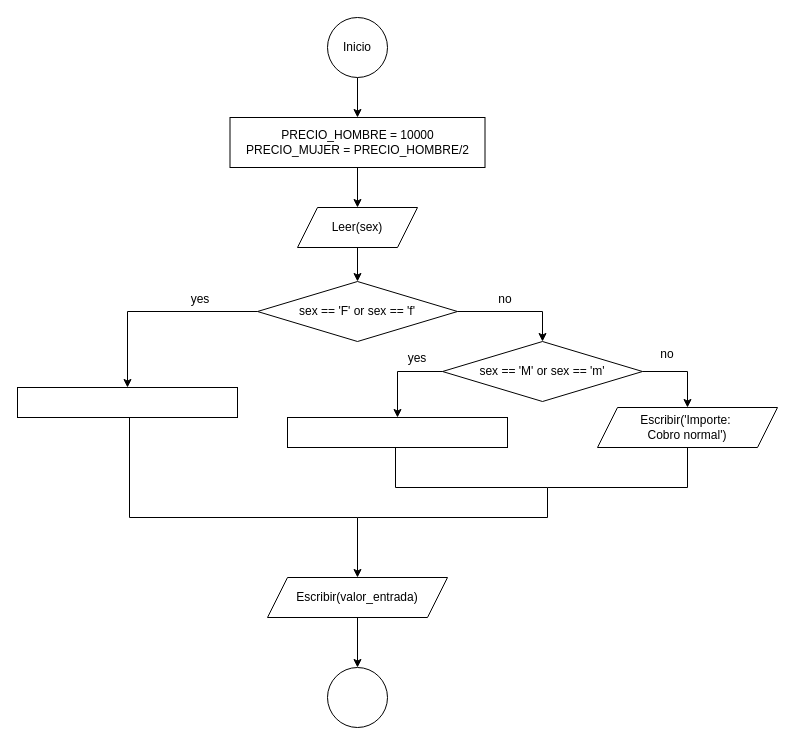
Image size: 795x745. Some labels were removed from this diagram. The shapes that lost their labels are listed below. From the top down, each one's centre as x and y in pixels, then its label:
At (x=127, y=402): "valor_entrada = PRECIO_MUJER".
At (x=397, y=432): "valor_entrada = PRECIO_HOMBRE".
At (x=357, y=697): "Fin".
